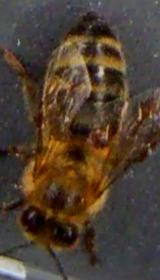varroa_mite: (82, 114, 120, 150)
